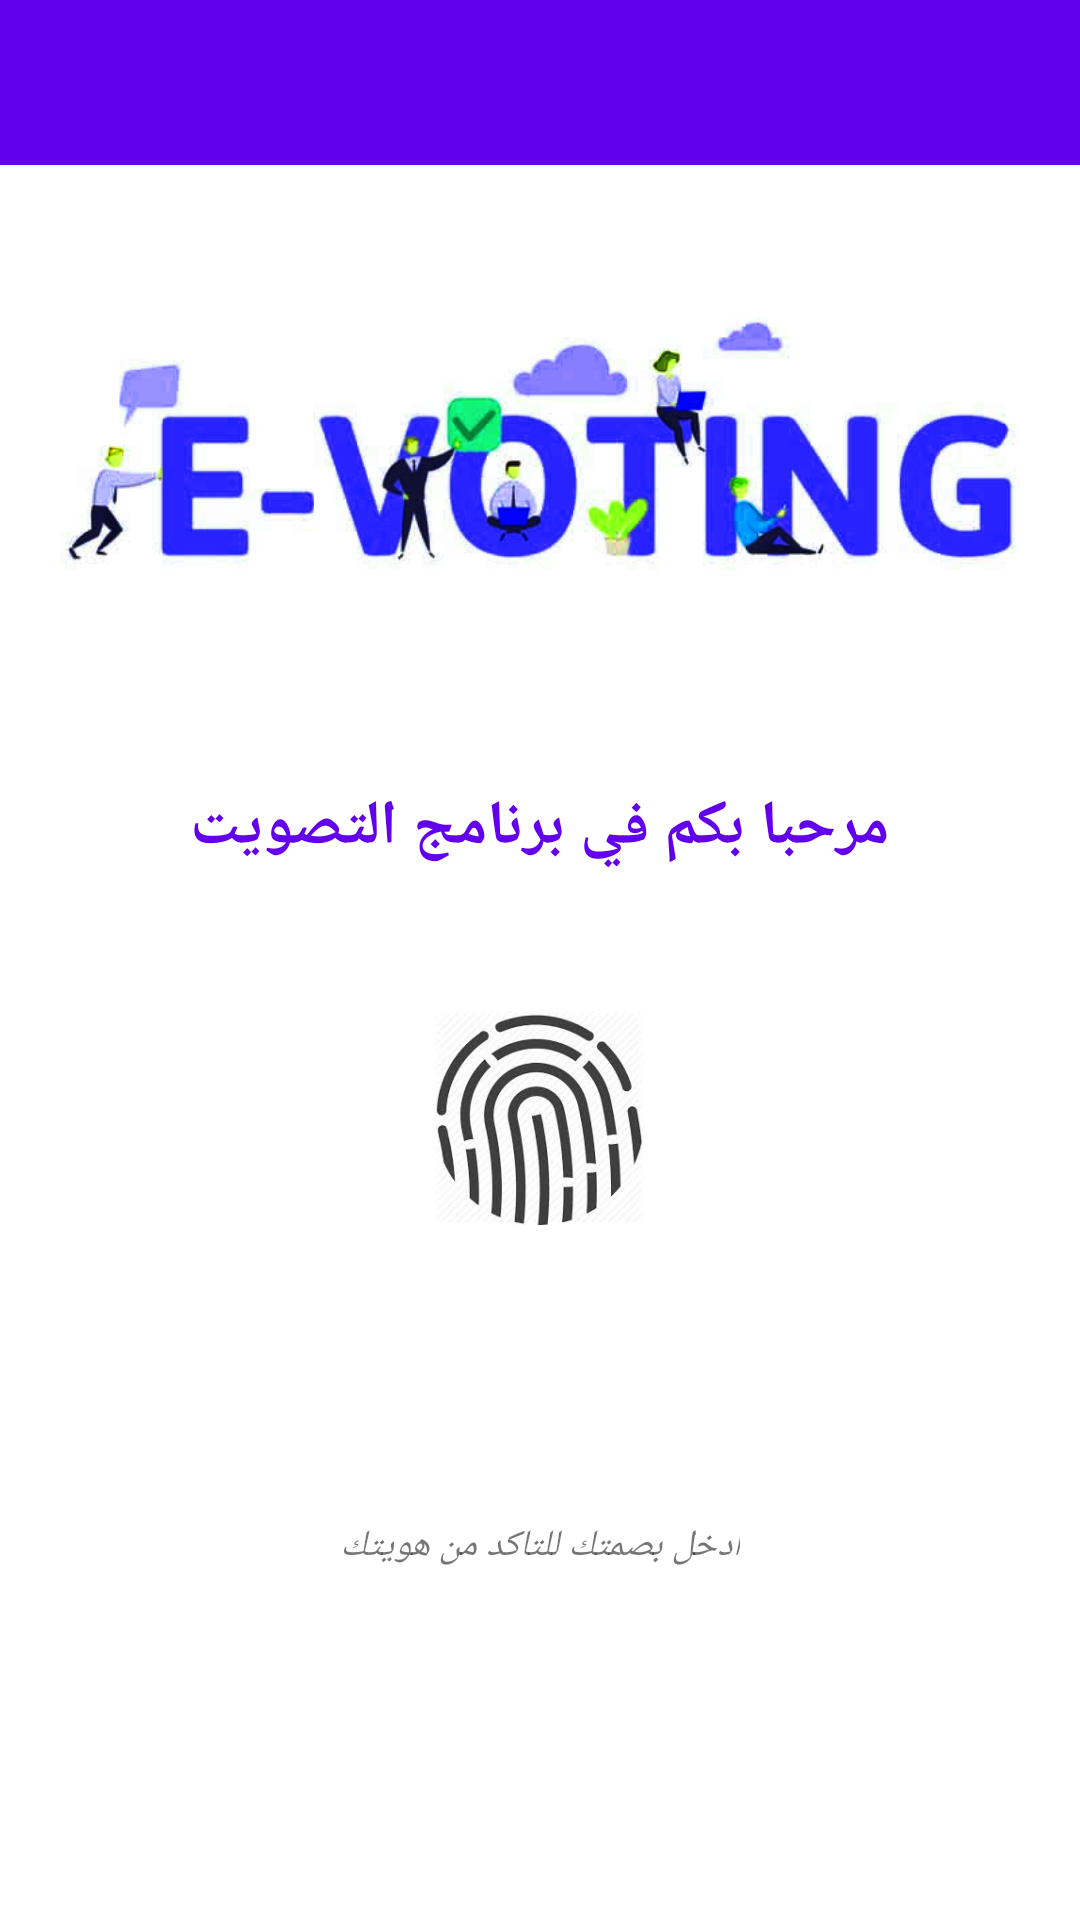

Locate icon controls on the screen. Image size 1080*1920, boxes as {"x1": x1, "y1": y1, "x2": x2, "y2": y2}.
fingerprint: {"x1": 436, "y1": 1015, "x2": 642, "y2": 1225}
